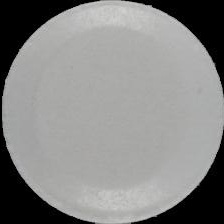0904-5392: (0, 0, 224, 224)
